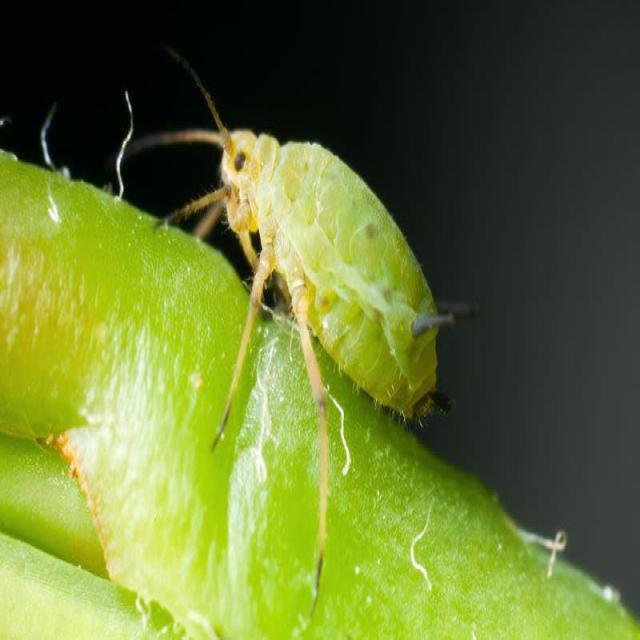Aphids: (121, 68, 502, 556)
